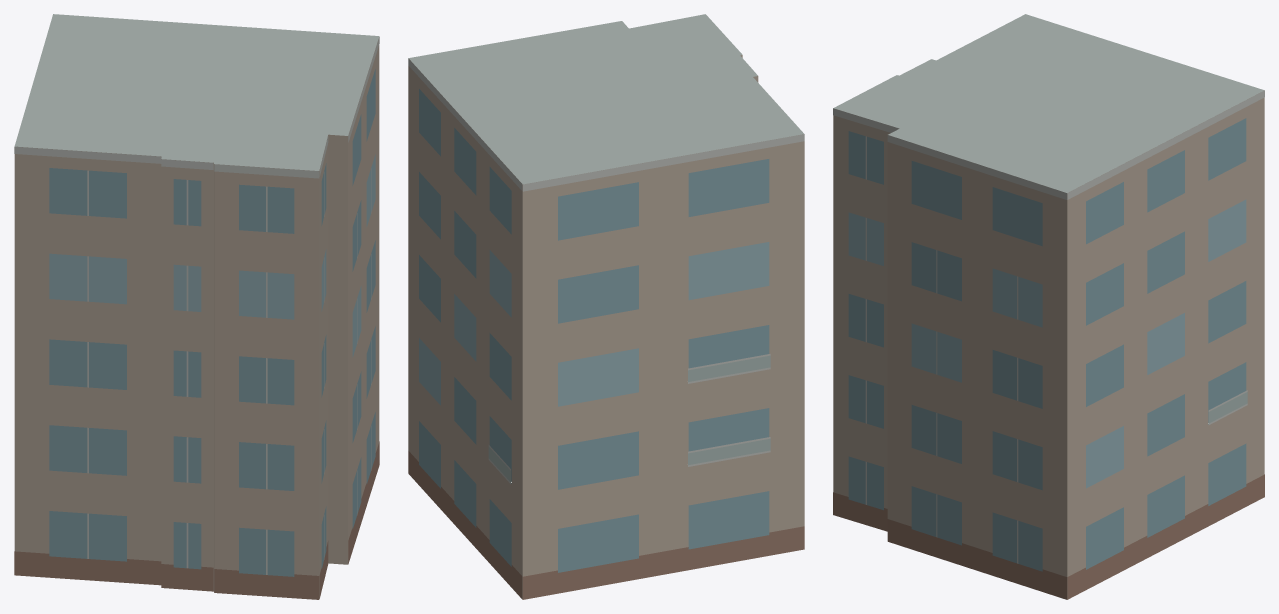
File: survey-upis-32929487.glb
The picture shows the model from 3 angles, left to right: view 1: azimuth 30°, elevation 25°; view 2: azimuth 150°, elevation 25°; view 3: azimuth 270°, elevation 25°; orthographic projection. The views are drawn at different scales.
Visible parts, largest first — view 1: survey-upis-32929487.tmp; view 2: survey-upis-32929487.tmp; view 3: survey-upis-32929487.tmp.
Part boxes in pixels (box(x1,y1,x2,y2)): survey-upis-32929487.tmp: box(14, 14, 379, 599); survey-upis-32929487.tmp: box(408, 14, 804, 599); survey-upis-32929487.tmp: box(833, 14, 1264, 599).
Bounding box in the file's own units: 13.33 × 14.1 × 13.57.
